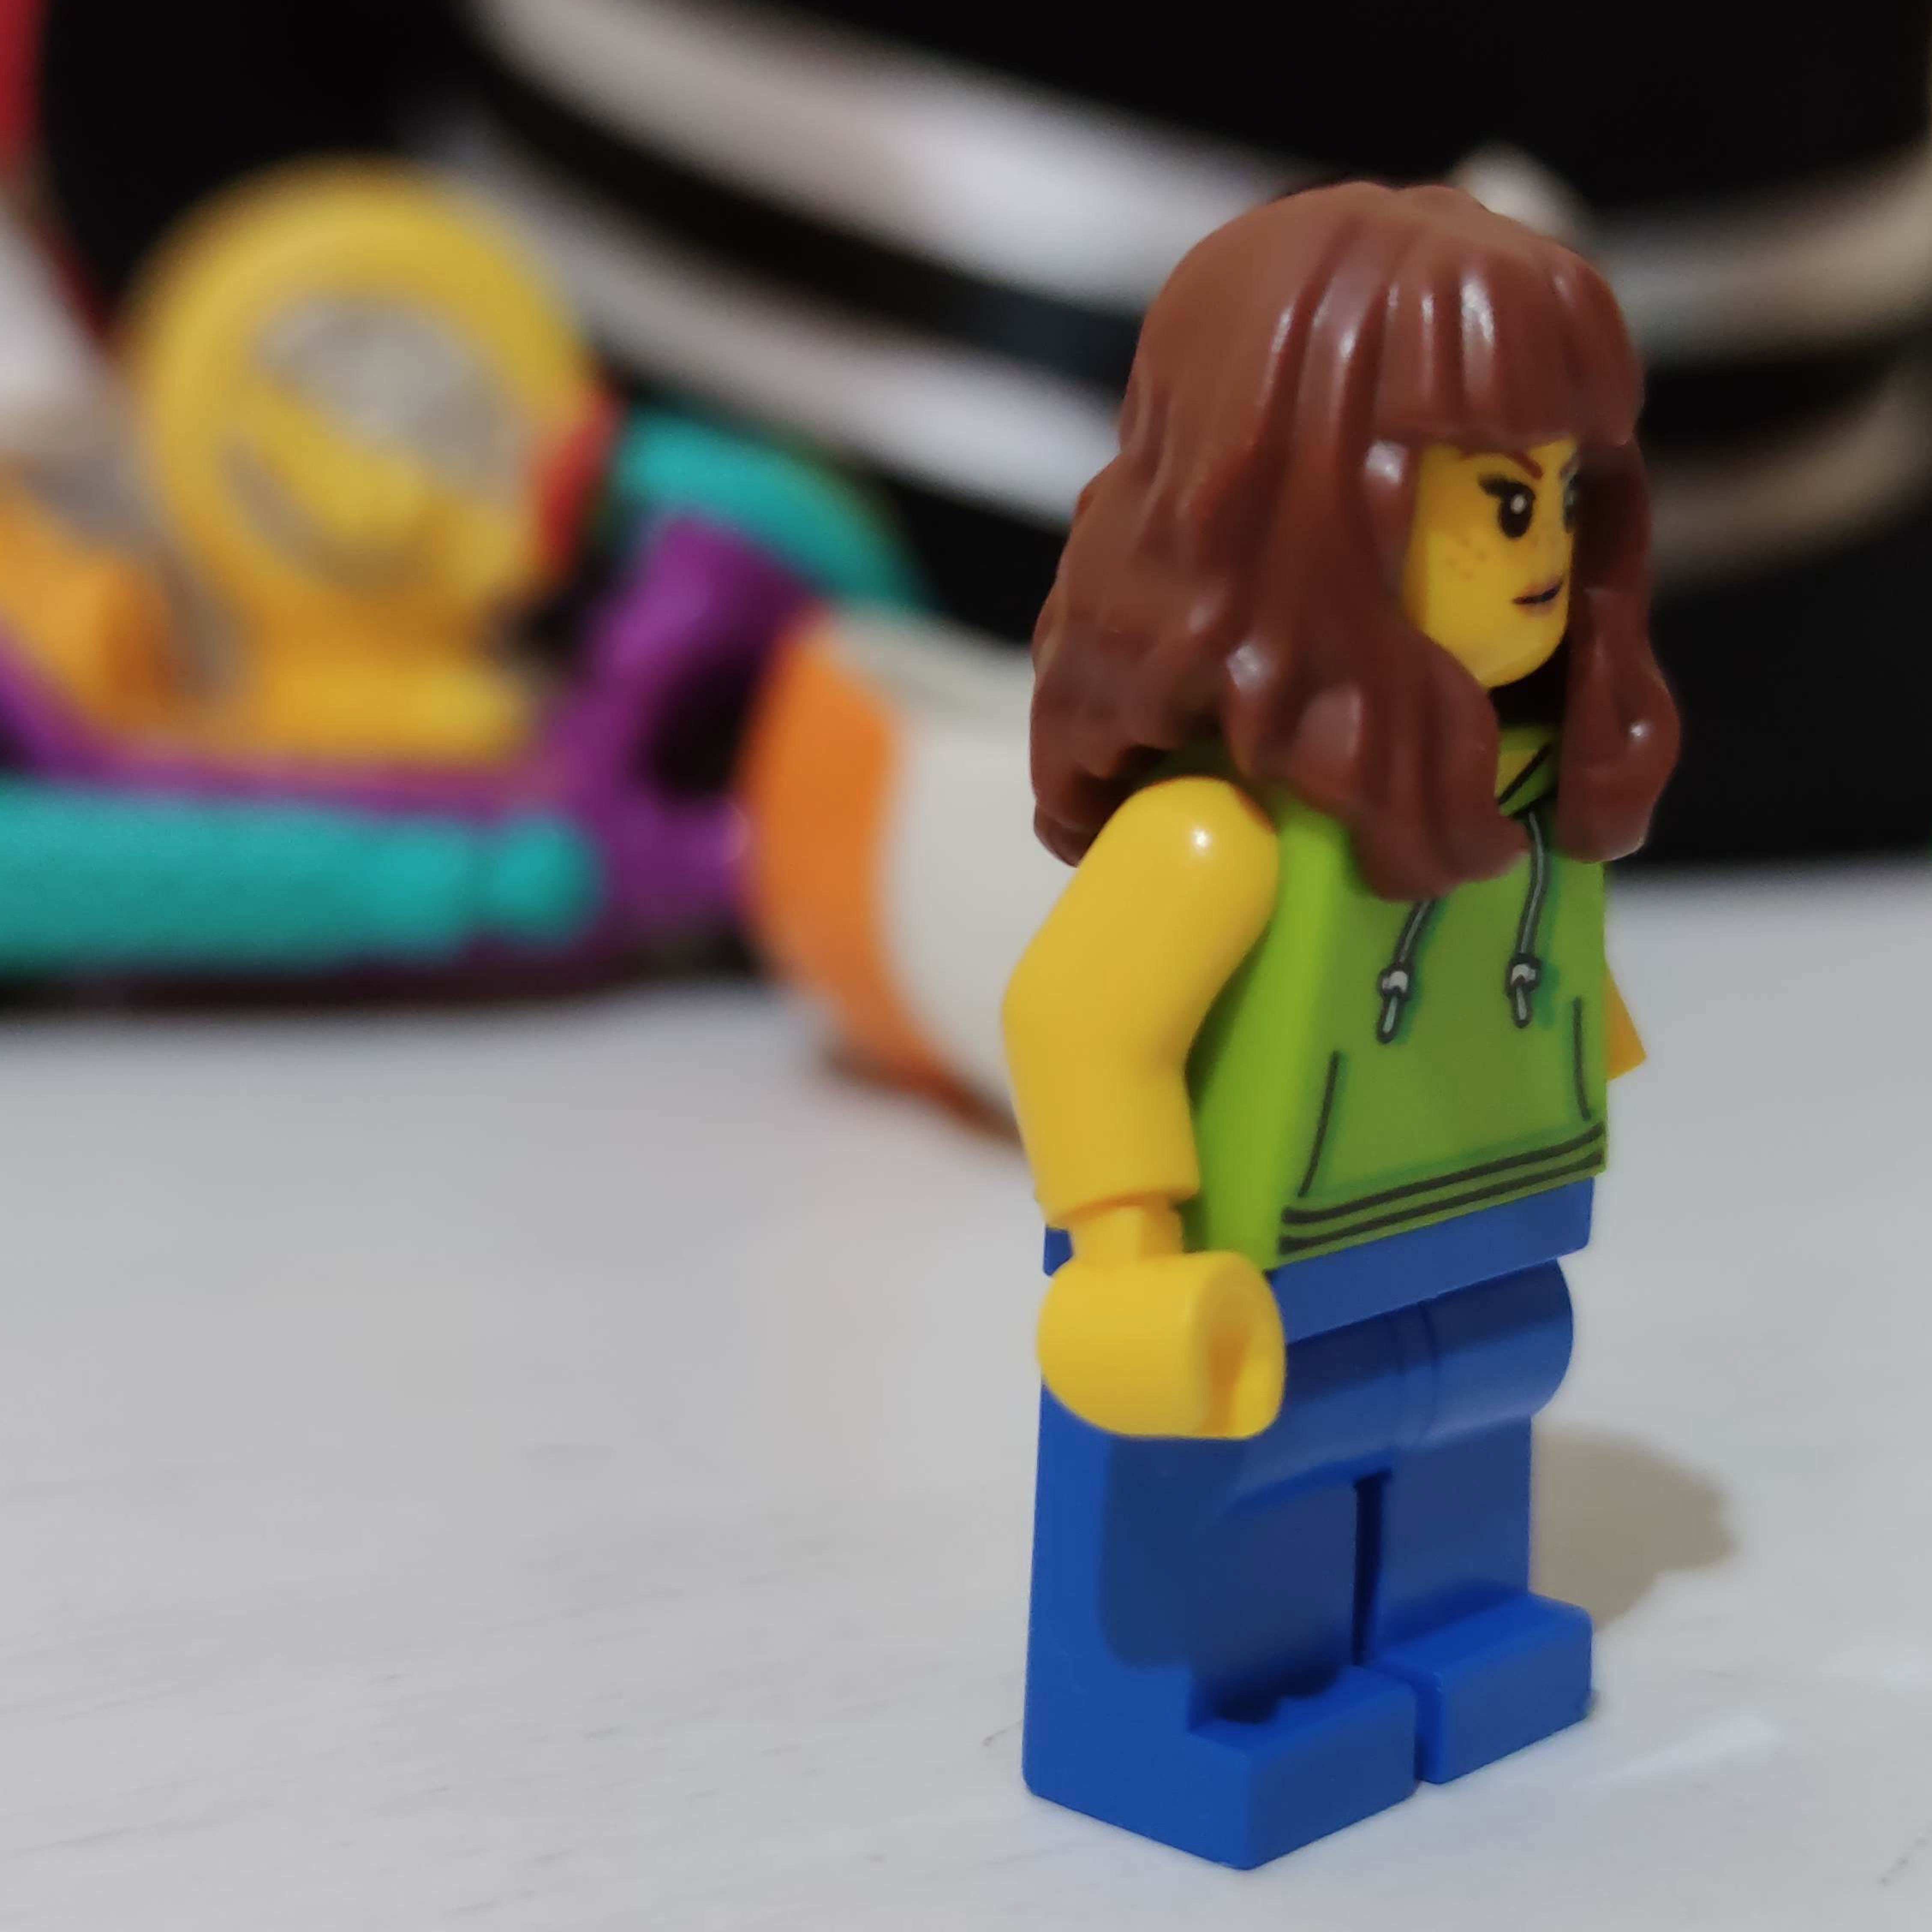lego: (1000, 177, 1679, 1867)
